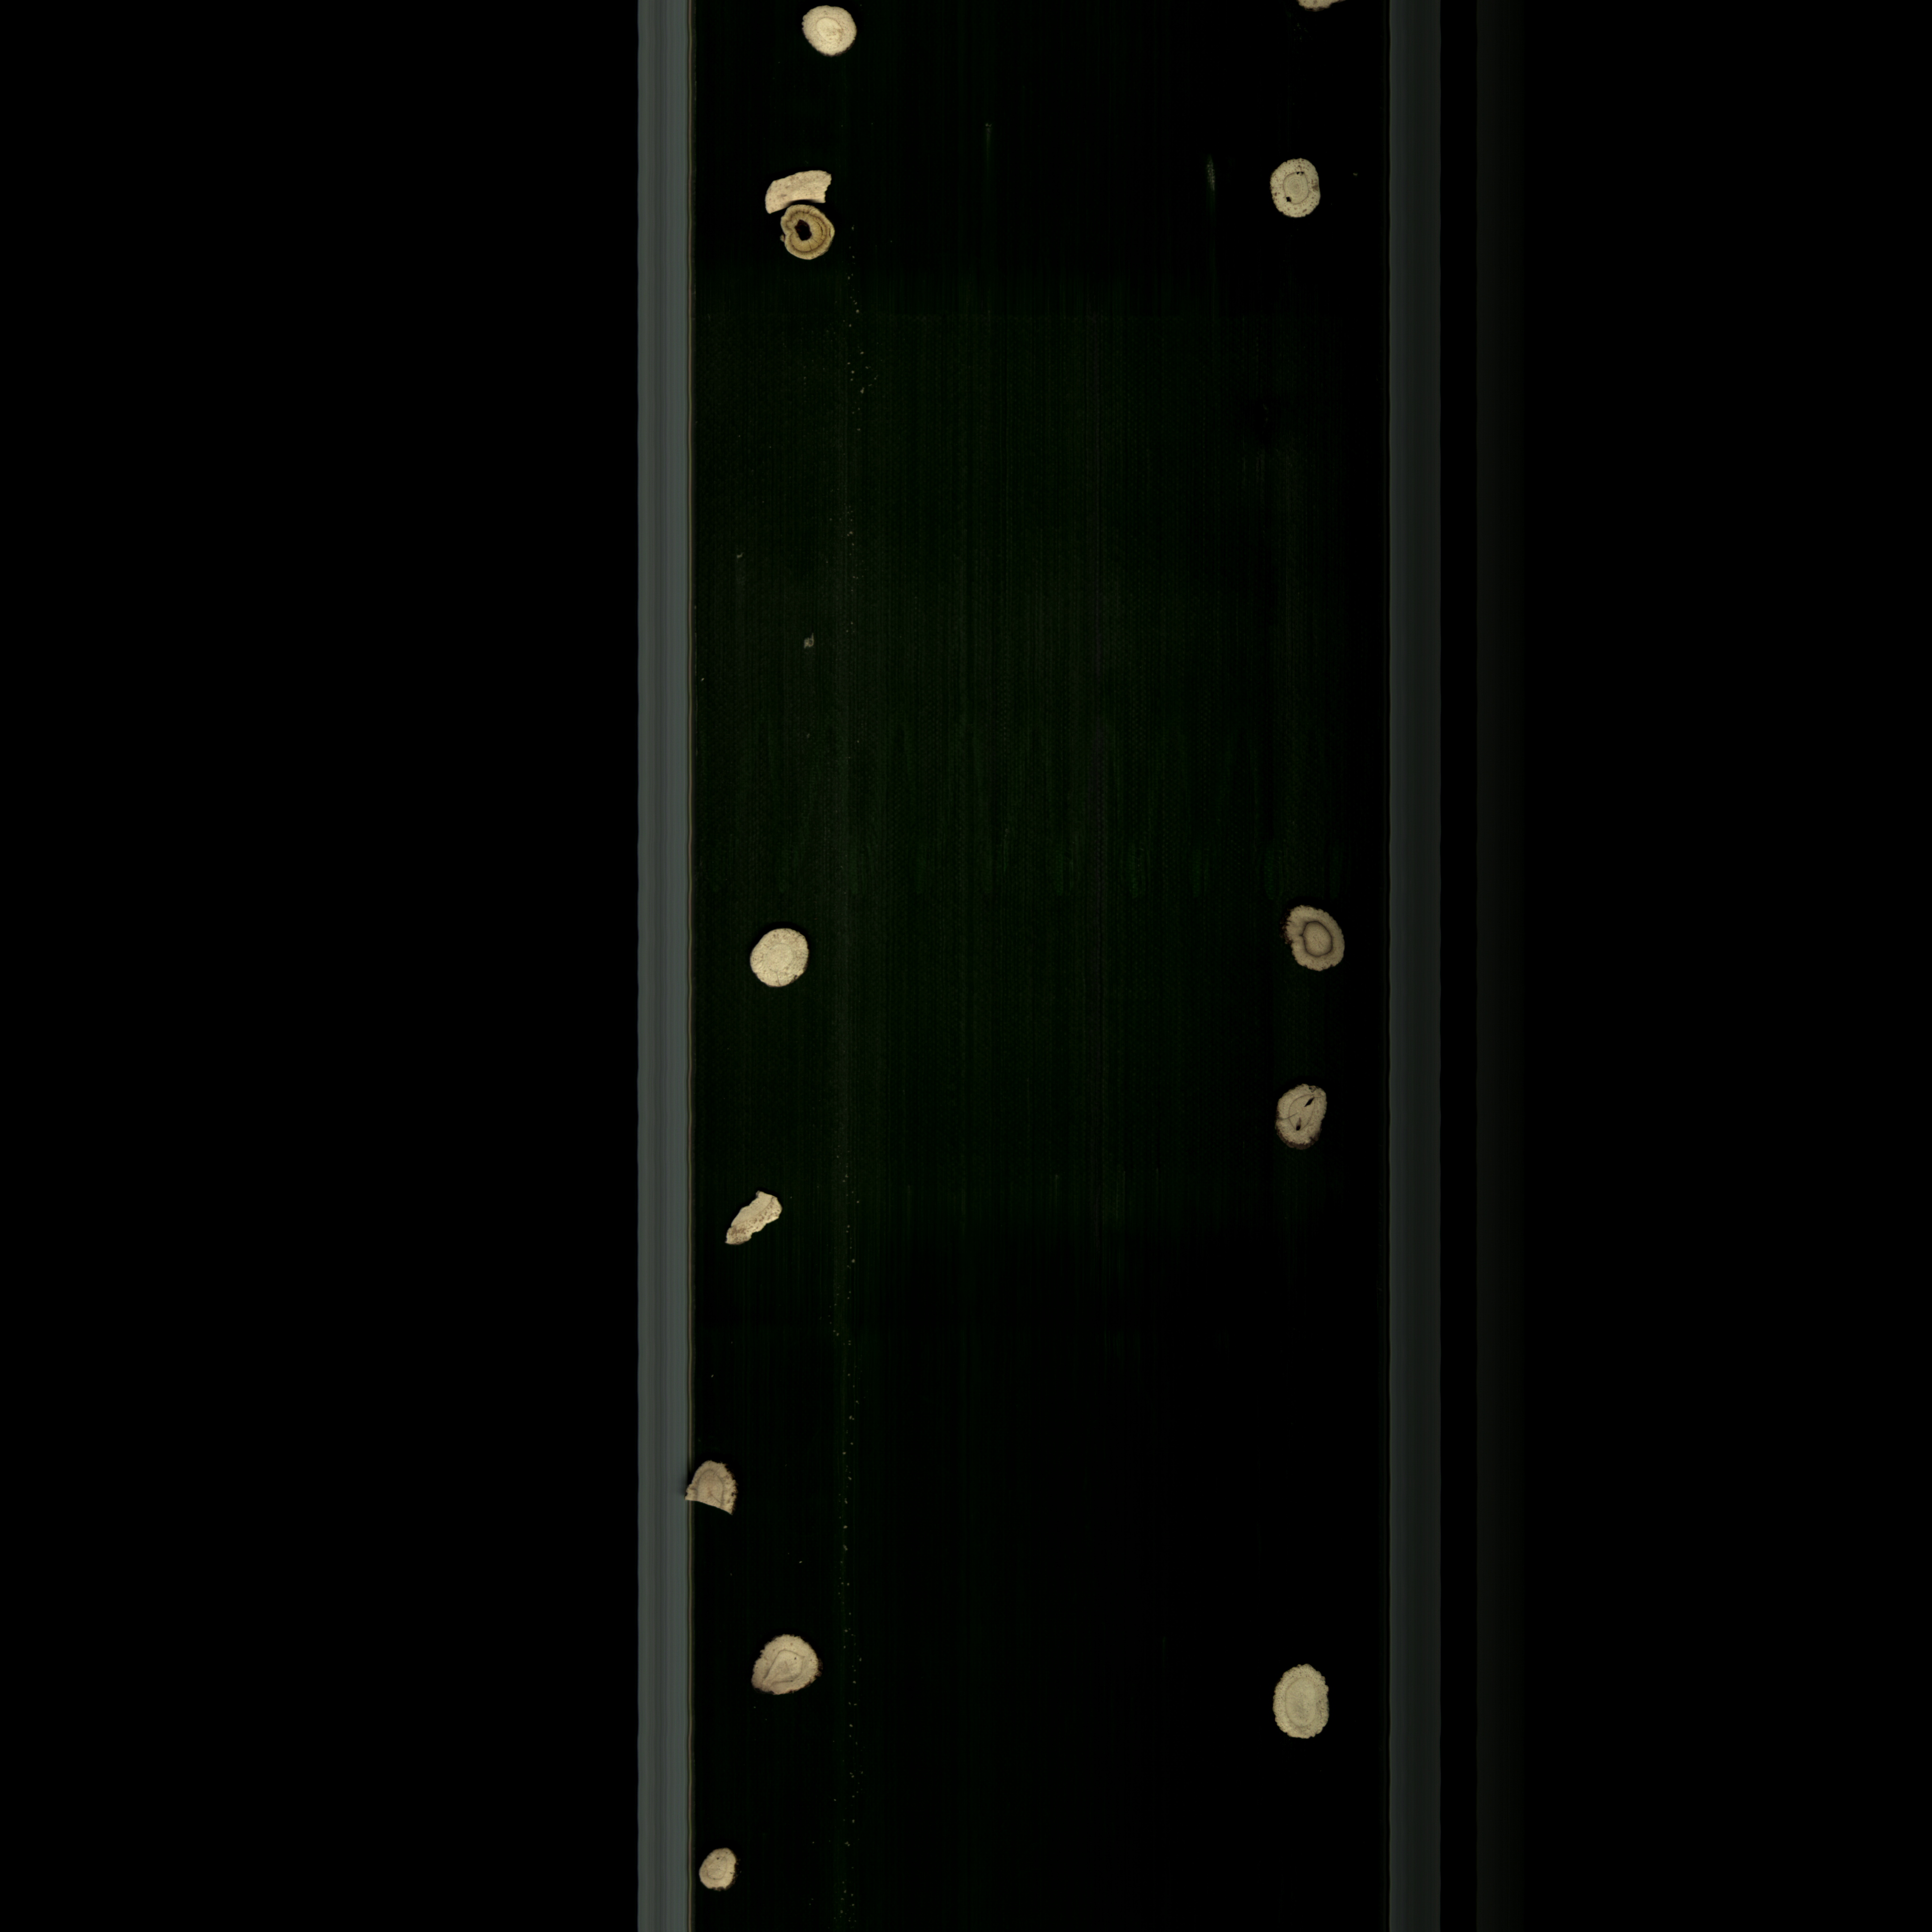debris: (678, 1453, 748, 1525), (757, 163, 842, 209)
distortion: (747, 1629, 833, 1700), (715, 1180, 789, 1253), (695, 1842, 750, 1902)
hole: (1258, 152, 1339, 235), (1274, 1079, 1341, 1154)
moldy: (764, 198, 846, 274), (1279, 902, 1355, 984)
